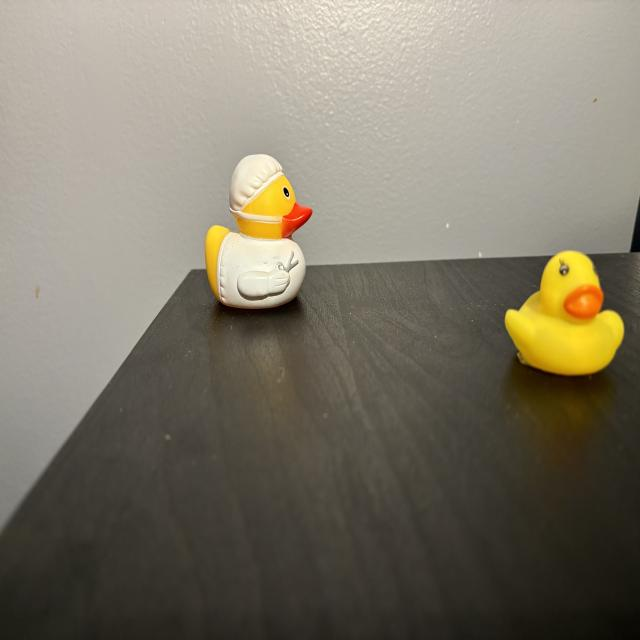duck_regular: (507, 251, 626, 377)
duck_specialty: (206, 153, 315, 310)
